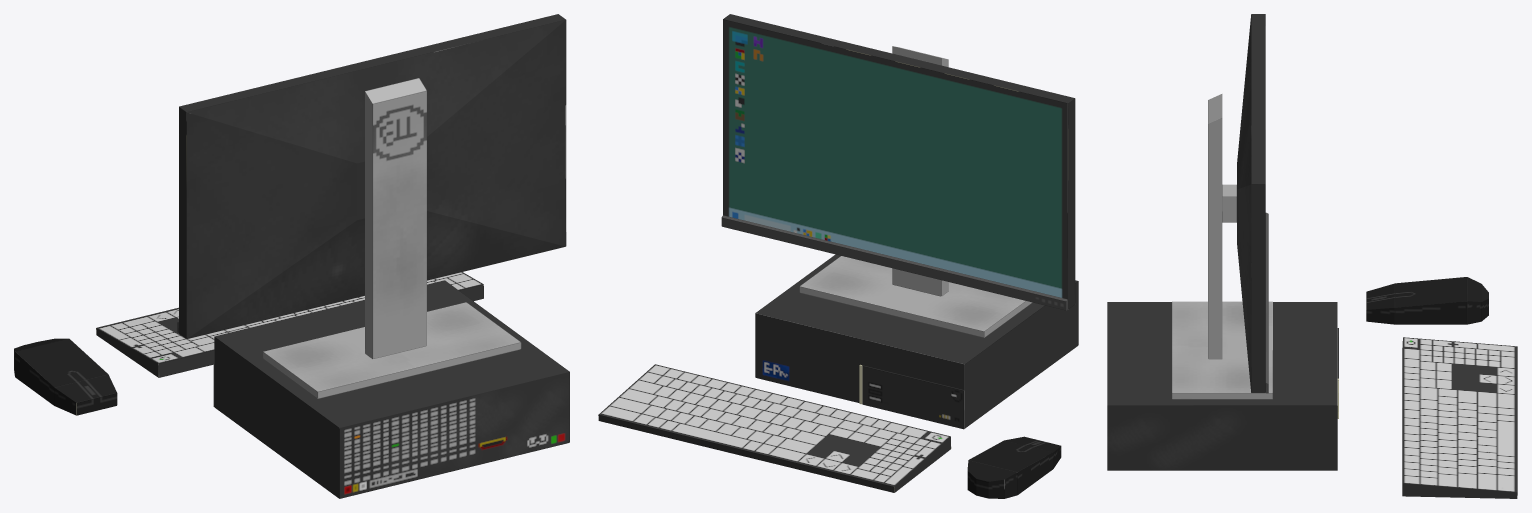
File: ComputerRig.obj
3 views of the same model, side by side, from view 1: azimuth 30°, elevation 25°; view 2: azimuth 150°, elevation 25°; view 3: azimuth 270°, elevation 25° (orthographic). The views are drawn at different scales.
Parts seen in each view (by area): view 1: Monitor, The black box, Keyboard, Mouse; view 2: Monitor, The black box, Keyboard, Mouse; view 3: The black box, Monitor, Keyboard, Mouse.
Boxes of the visible parts, <box> form: Monitor: <box>177,14,566,398</box>; The black box: <box>213,280,569,498</box>; Keyboard: <box>96,272,483,377</box>; Mouse: <box>14,338,117,415</box>; Monitor: <box>721,14,1075,337</box>; The black box: <box>755,254,1078,429</box>; Keyboard: <box>598,364,951,492</box>; Mouse: <box>967,436,1061,498</box>; The black box: <box>1107,302,1338,470</box>; Monitor: <box>1172,14,1272,399</box>; Keyboard: <box>1402,337,1517,498</box>; Mouse: <box>1366,277,1488,324</box>.
Bounding box in the file's own units: 1 × 0.7656 × 0.8908.
Materials: 1 (1 with a texture image).
